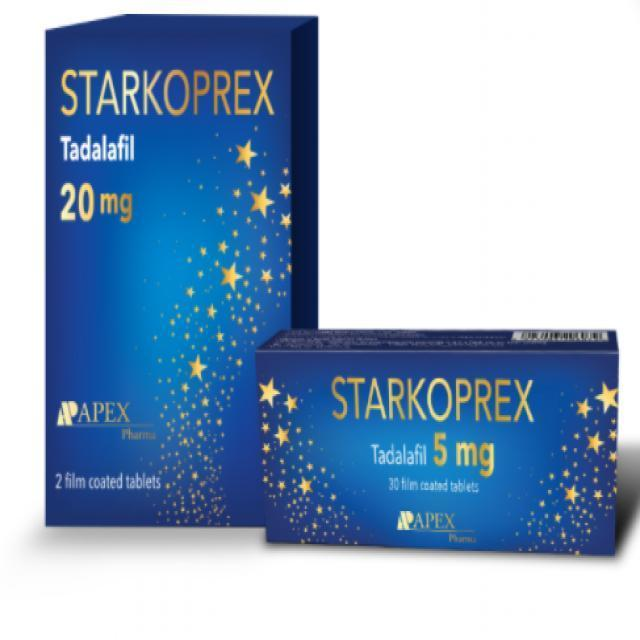drug-name: (58, 64, 276, 118)
